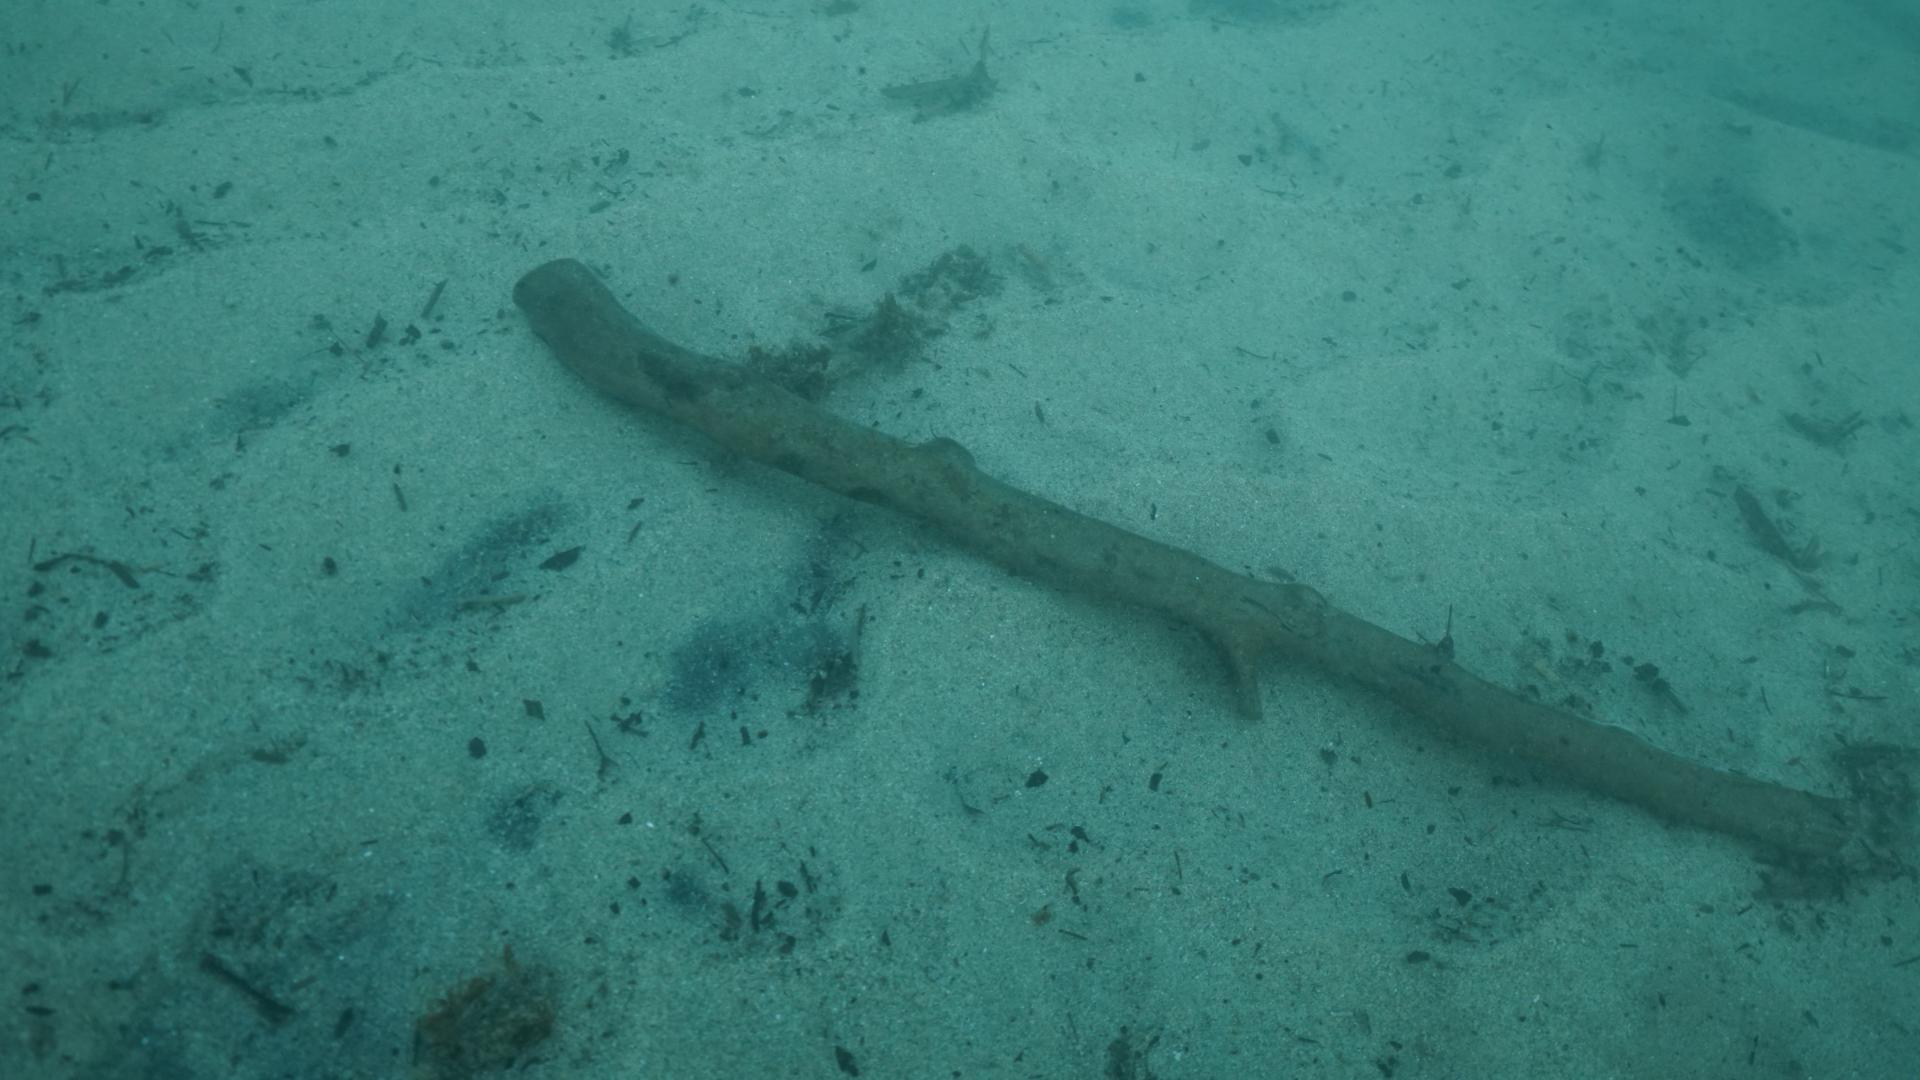wood: (512, 255, 1855, 872)
